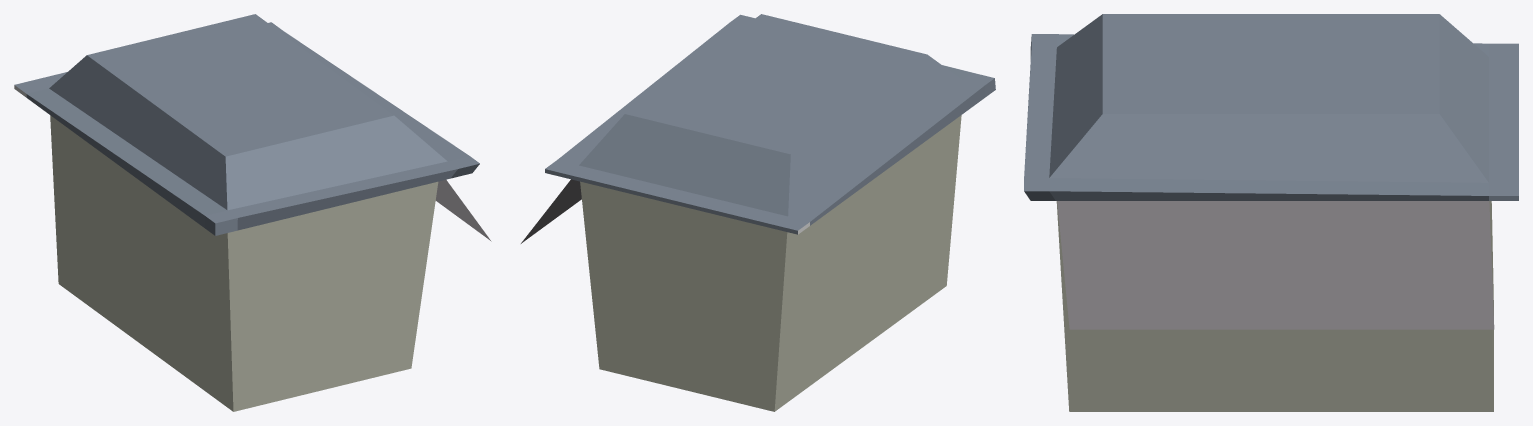
Rendered from Backgroundhouse_2 (1).fbx.
3 views of the same model, side by side, from view 1: azimuth 30°, elevation 25°; view 2: azimuth 150°, elevation 25°; view 3: azimuth 270°, elevation 25° (orthographic). The views are drawn at different scales.
Parts seen in each view (by area): view 1: Cube.001; view 2: Cube.001; view 3: Cube.001.
Part boxes in pixels (left/top/right/bottom): Cube.001: left=14, top=14, right=491, bottom=411; Cube.001: left=521, top=14, right=995, bottom=411; Cube.001: left=1024, top=14, right=1518, bottom=411.
Bounding box in the file's own units: 479 × 382 × 578.
